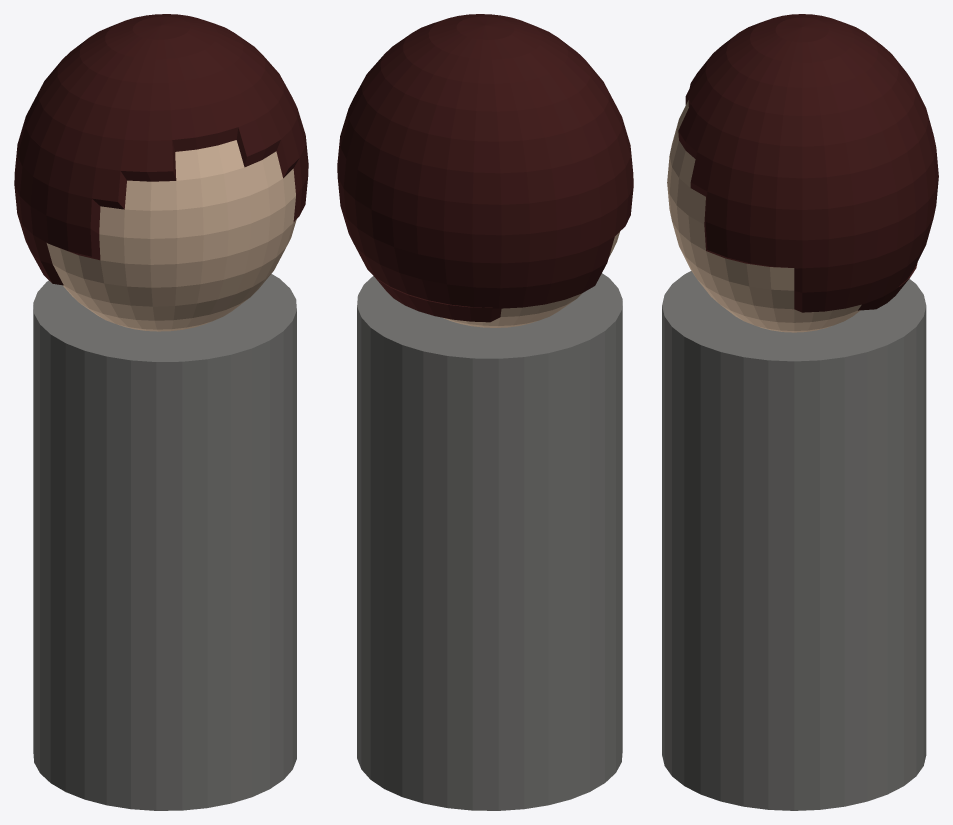
File: player_red.glb
3 views of the same model, side by side, from view 1: azimuth 30°, elevation 25°; view 2: azimuth 150°, elevation 25°; view 3: azimuth 270°, elevation 25° (orthographic).
Visible parts, largest first — view 1: Cylinder.002, Sphere.002; view 2: Cylinder.002, Sphere.002; view 3: Cylinder.002, Sphere.002.
Part boxes in pixels (x1,y1,x2,y2): Cylinder.002: (33, 274, 296, 810); Sphere.002: (14, 14, 308, 331); Cylinder.002: (357, 273, 622, 810); Sphere.002: (337, 14, 633, 327); Cylinder.002: (662, 271, 926, 810); Sphere.002: (667, 14, 938, 332).
Size of the model in its own units: 0.9113 by 2.42 by 0.833.
